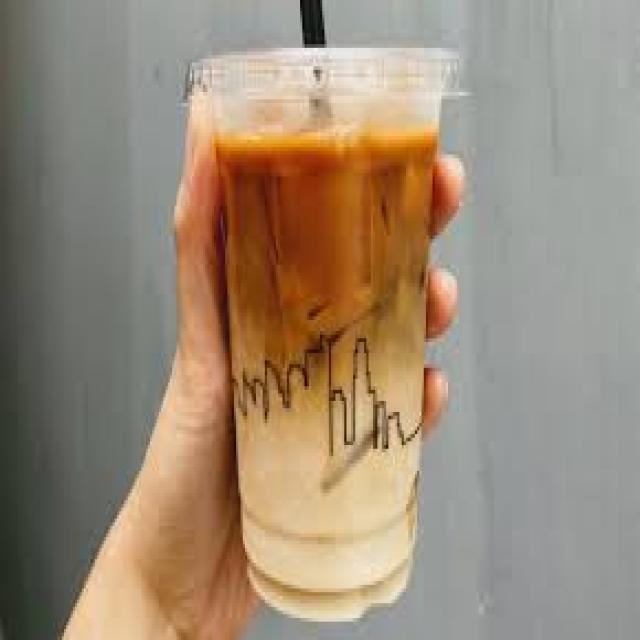bottle: (192, 48, 454, 618)
